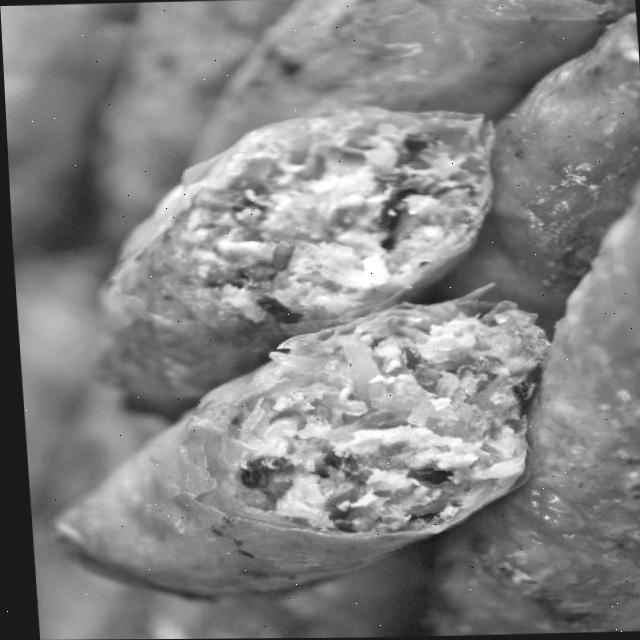炸货点心: (1, 18, 640, 640)
